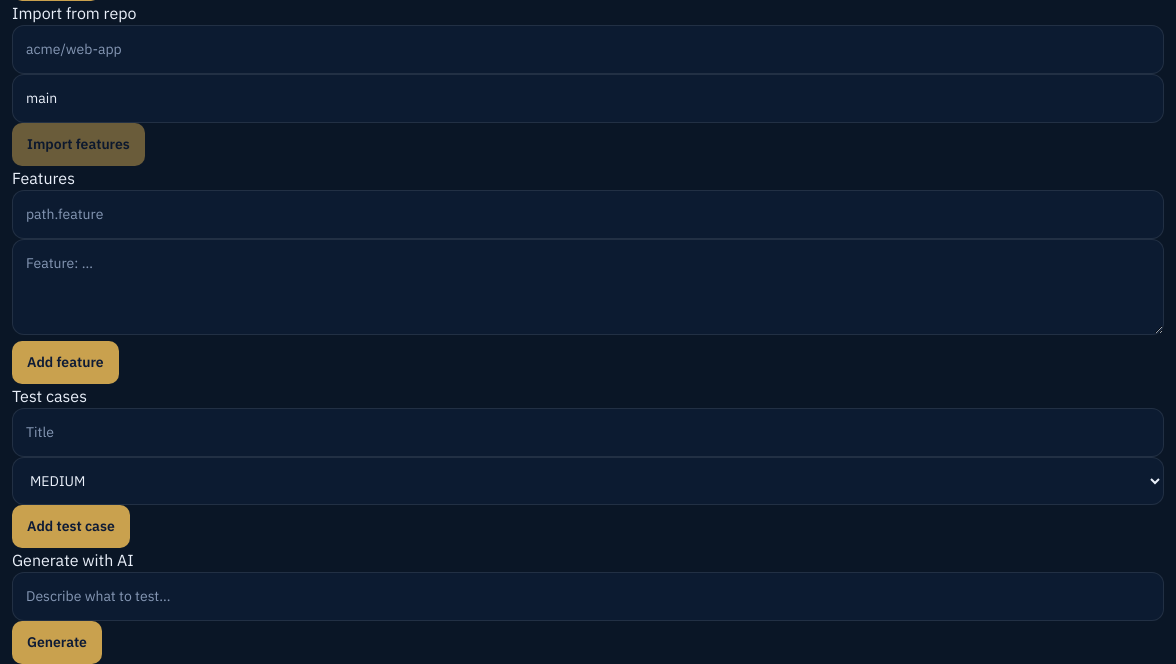
it: TestLabScreen › adds a test case
(page scrolled)
Type "Pay with card" into the field named "Test case title".
click(588, 432); type("Pay with card")  # box x1=12 y1=408 x2=1164 y2=456
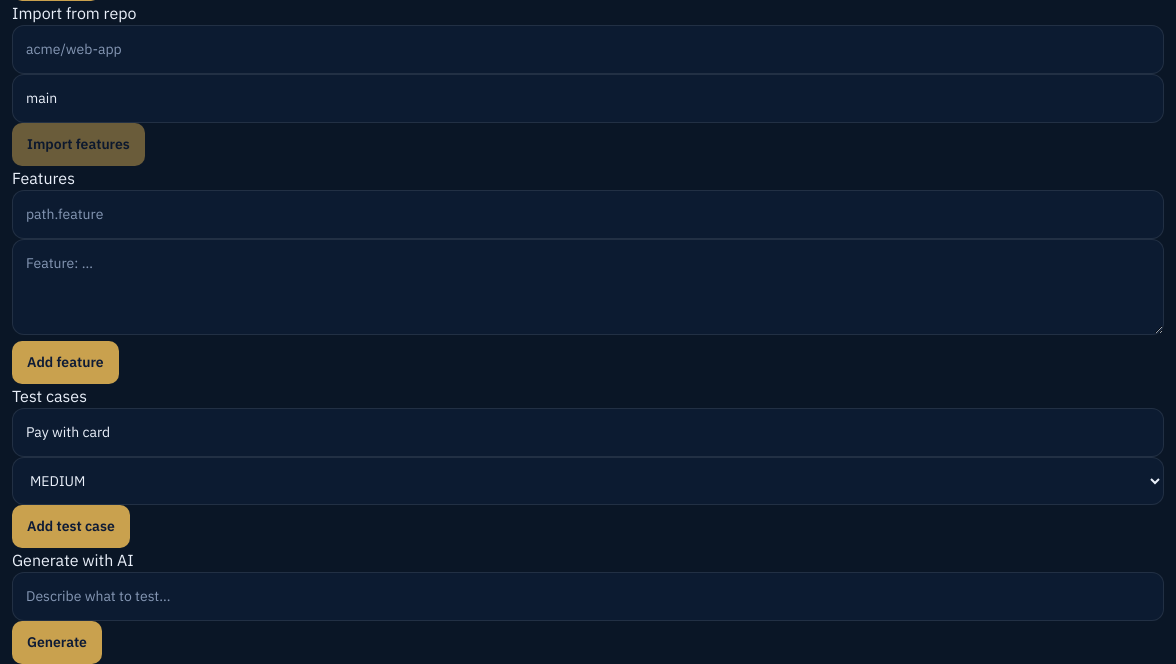
Click the button "Add test case".
click(71, 526)  # box x1=12 y1=504 x2=130 y2=548
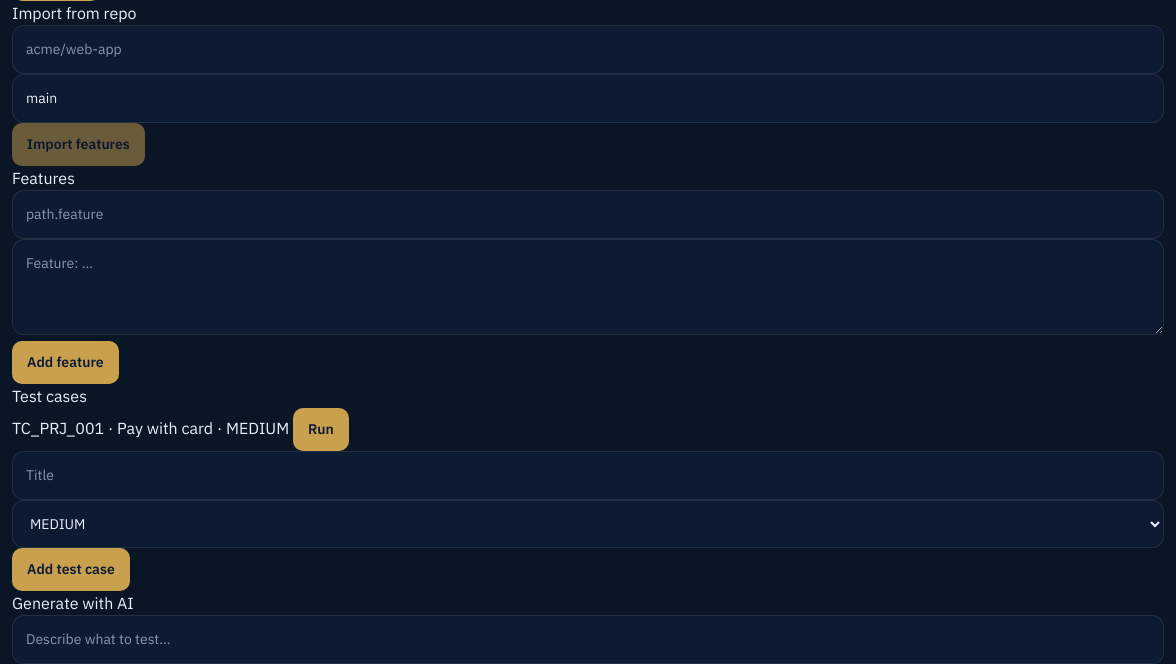
Expected: the text "TC_PRJ_001 · Pay with card · MEDIUM" is shown, x1=12 y1=418 x2=289 y2=438
